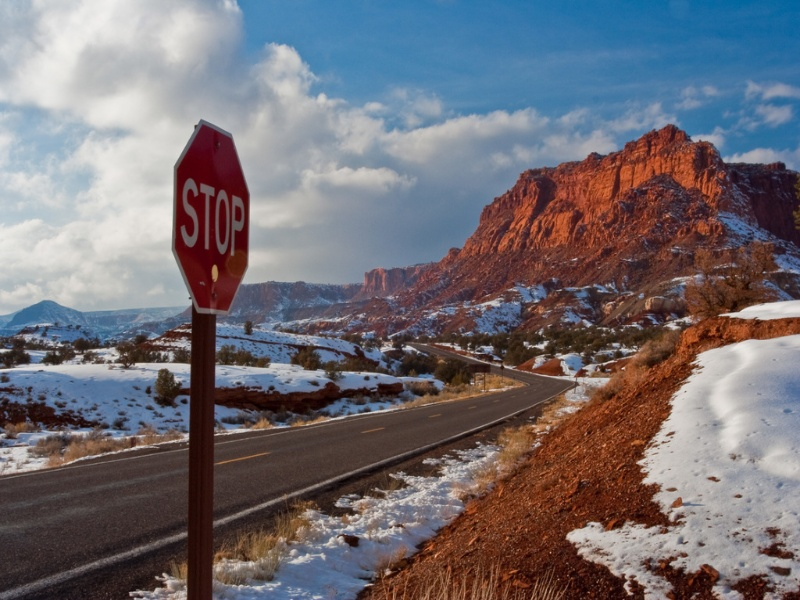red_light: (169, 112, 253, 316)
